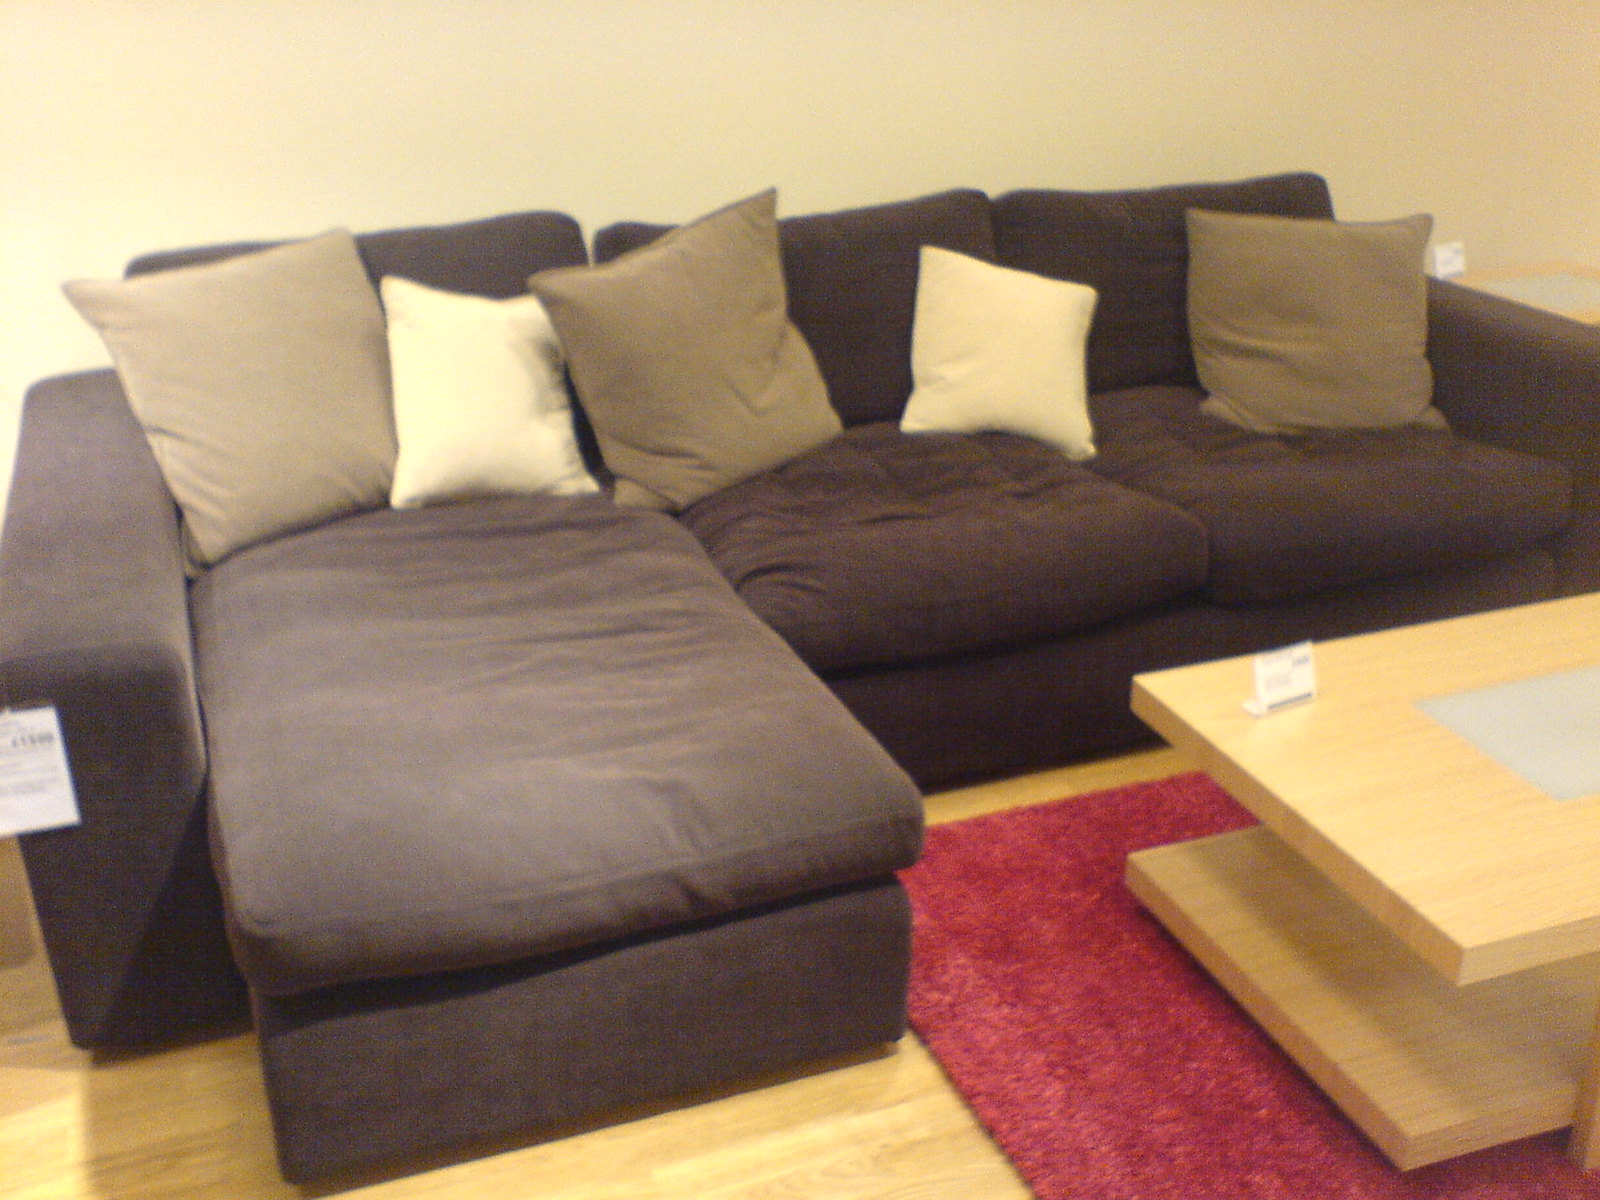sofa: (13, 224, 1594, 919)
